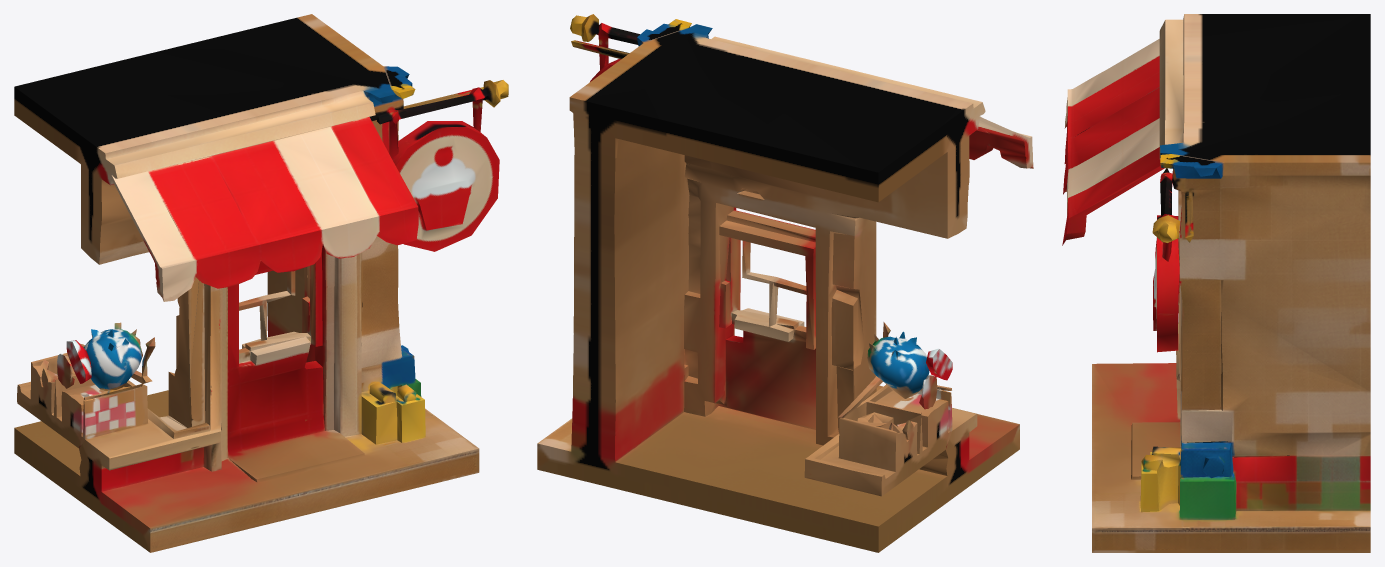
File: 2-ground-floor-front-right.fbx
3 renders of one model, left to right at view 1: azimuth 30°, elevation 25°; view 2: azimuth 150°, elevation 25°; view 3: azimuth 270°, elevation 25°, orthographic. The views are drawn at different scales.
Visible parts, largest first — view 1: ground-floor-front-right; view 2: ground-floor-front-right; view 3: ground-floor-front-right.
Boxes of the visible parts, x1,y1,x2,y2 form: ground-floor-front-right: (14,14,508,552); ground-floor-front-right: (537,14,1033,552); ground-floor-front-right: (1062,14,1370,552).
Size of the model in its own units: 4750 by 4215 by 3143.
Materials: 1 (1 with a texture image).
